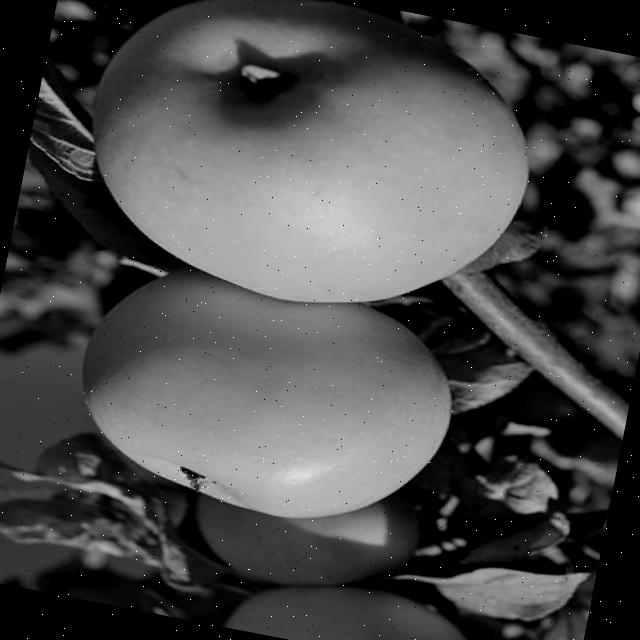Unripe: (66, 0, 555, 341), (59, 253, 467, 544)
